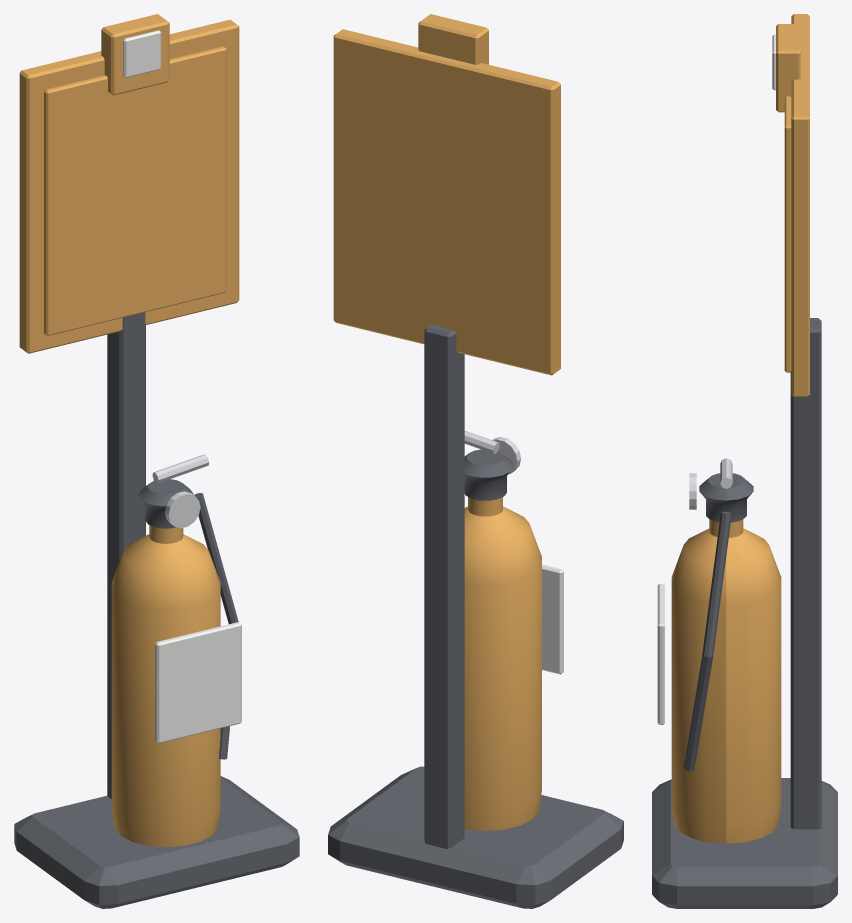
The model's file is L-fire-extinguisher-point.glb.
3 renders of one model, left to right at view 1: azimuth 30°, elevation 25°; view 2: azimuth 150°, elevation 25°; view 3: azimuth 270°, elevation 25°, orthographic. The views are drawn at different scales.
Visible parts, largest first — view 1: fire-extinguisher-point; view 2: fire-extinguisher-point; view 3: fire-extinguisher-point.
Part boxes in pixels (left/top/right/bottom): fire-extinguisher-point: left=14, top=14, right=299, bottom=908; fire-extinguisher-point: left=328, top=14, right=623, bottom=908; fire-extinguisher-point: left=652, top=14, right=837, bottom=908.
Size of the model in its own units: 0.4001 by 1.47 by 0.3.
